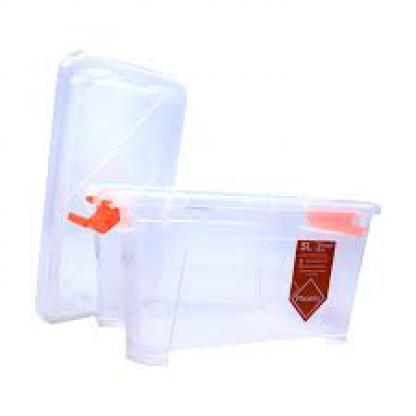plastic_box: (65, 168, 394, 372)
